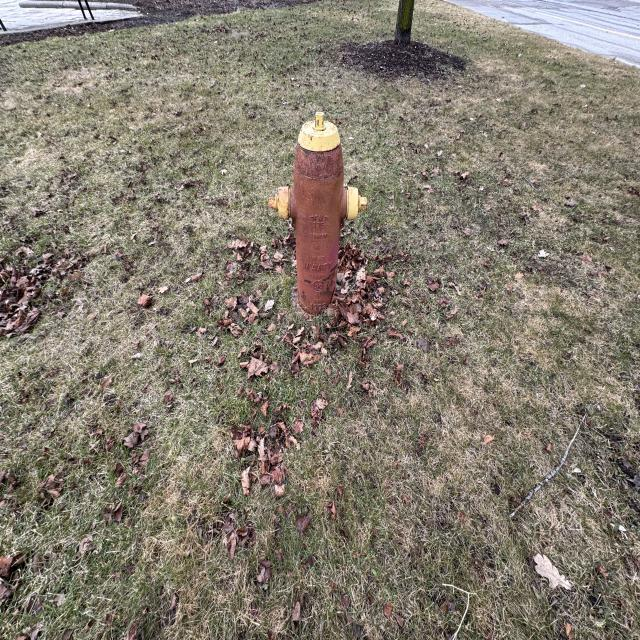Fire hydrant: (267, 111, 369, 321)
